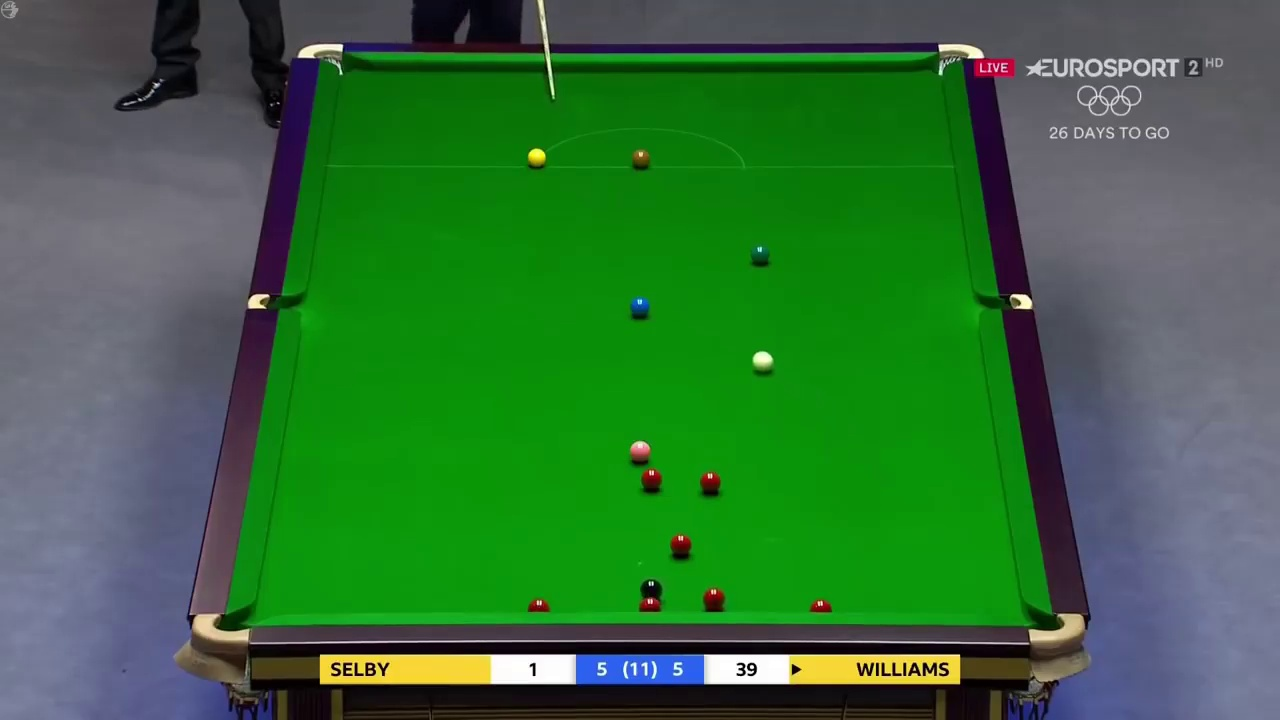ball: (625, 296, 649, 320), (628, 440, 652, 464), (750, 350, 773, 374), (697, 471, 720, 495), (750, 242, 771, 265), (640, 471, 663, 492), (668, 533, 691, 554), (524, 150, 546, 170), (629, 152, 650, 172)
